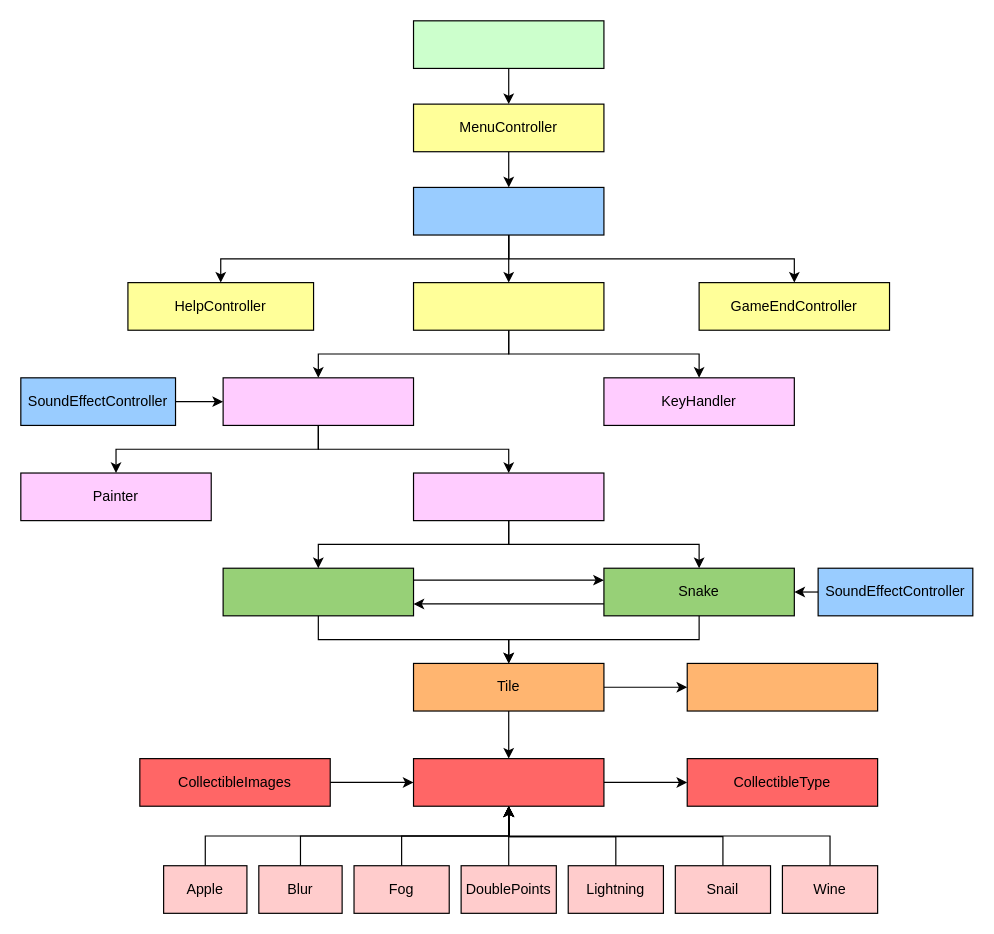
Image size: 994x934. Some labels were removed from this diagram. Here are the shapes that lost their labels. From the top down, the centre of each, then its label:
At (x=508, y=44): "SnakeGameApplication".
At (x=508, y=210): "SceneController".
At (x=508, y=305): "SinglePlayerController".
At (x=318, y=401): "GameLoop".
At (x=508, y=496): "GameController".
At (x=318, y=591): "GameBoard".
At (x=782, y=686): "TileType".
At (x=508, y=781): "Collectible".
